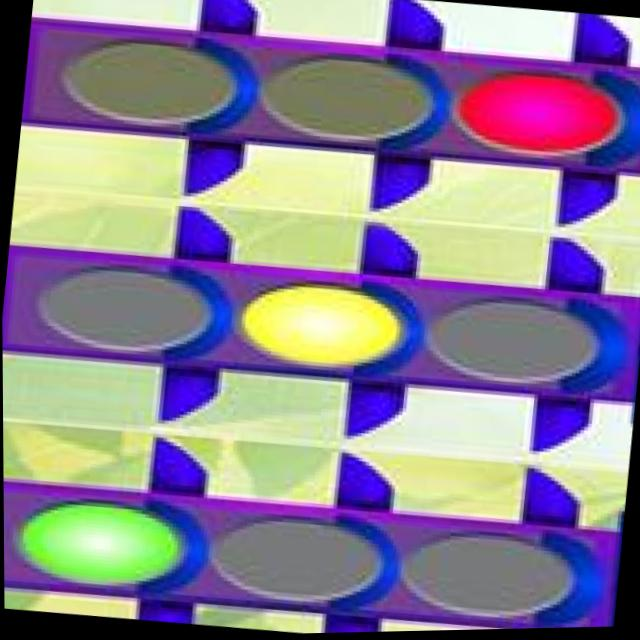green_light: (3, 474, 213, 629)
red_light: (440, 26, 640, 233)
yellow_light: (216, 247, 407, 424)
